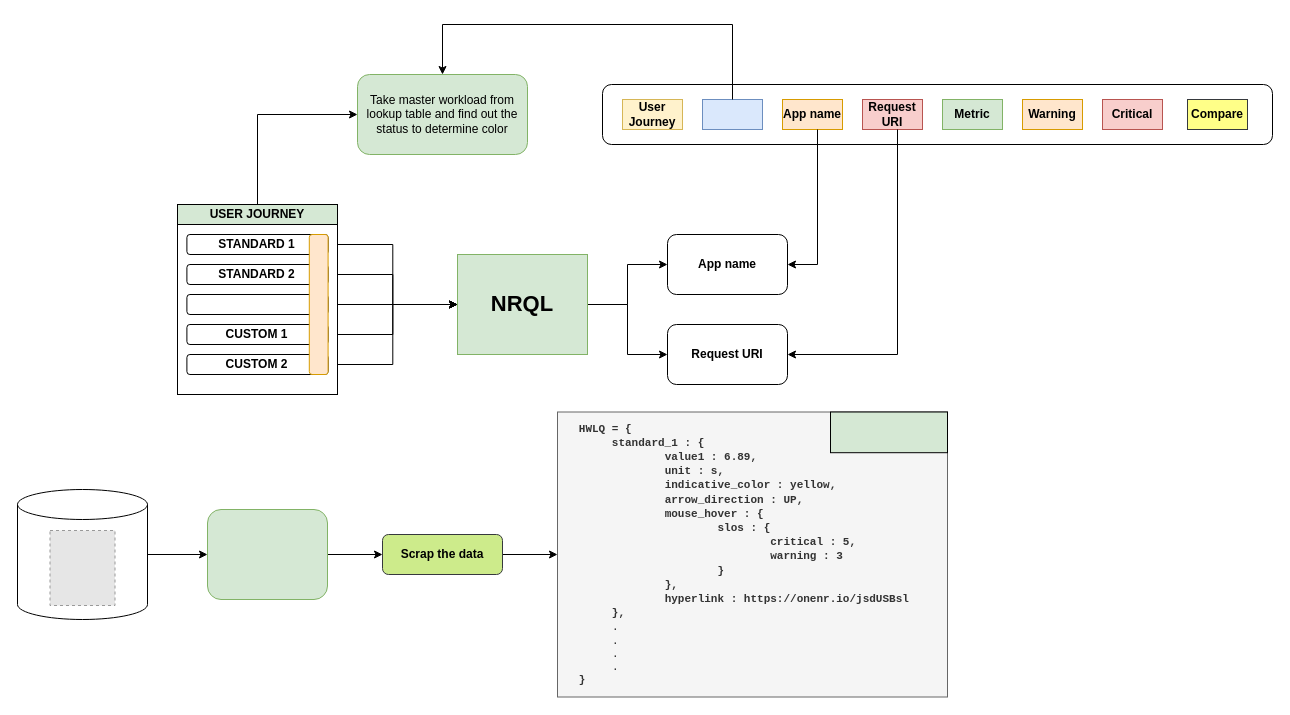
This 1290x715 diagram has some shape labels left out. Grey dashed boxes stand in for pictures. Here are the shapes that lost their labels. From the top down, the box of each, then its label:
(702, 98, 762, 130): Master workload
(186, 294, 328, 314): STANDARD 3
(830, 411, 948, 453): Scrapped object for card view
(206, 508, 328, 600): NerdGraphQL for fetching all required data at once.
